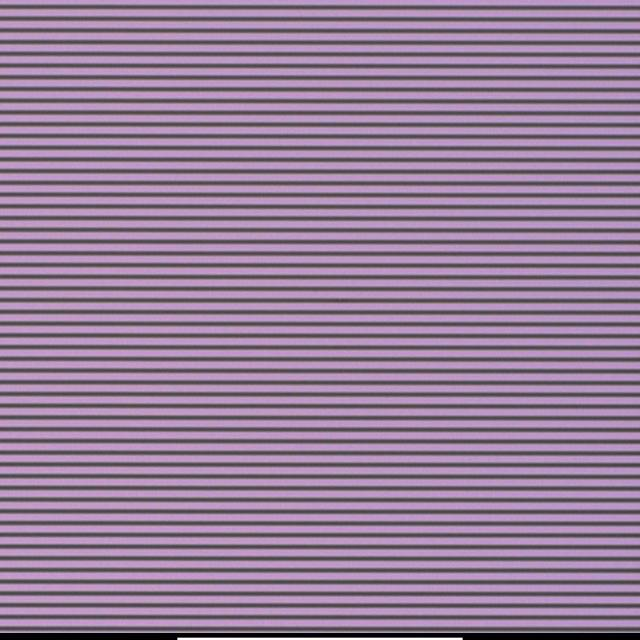03_intrusion: (305, 289, 316, 301)
